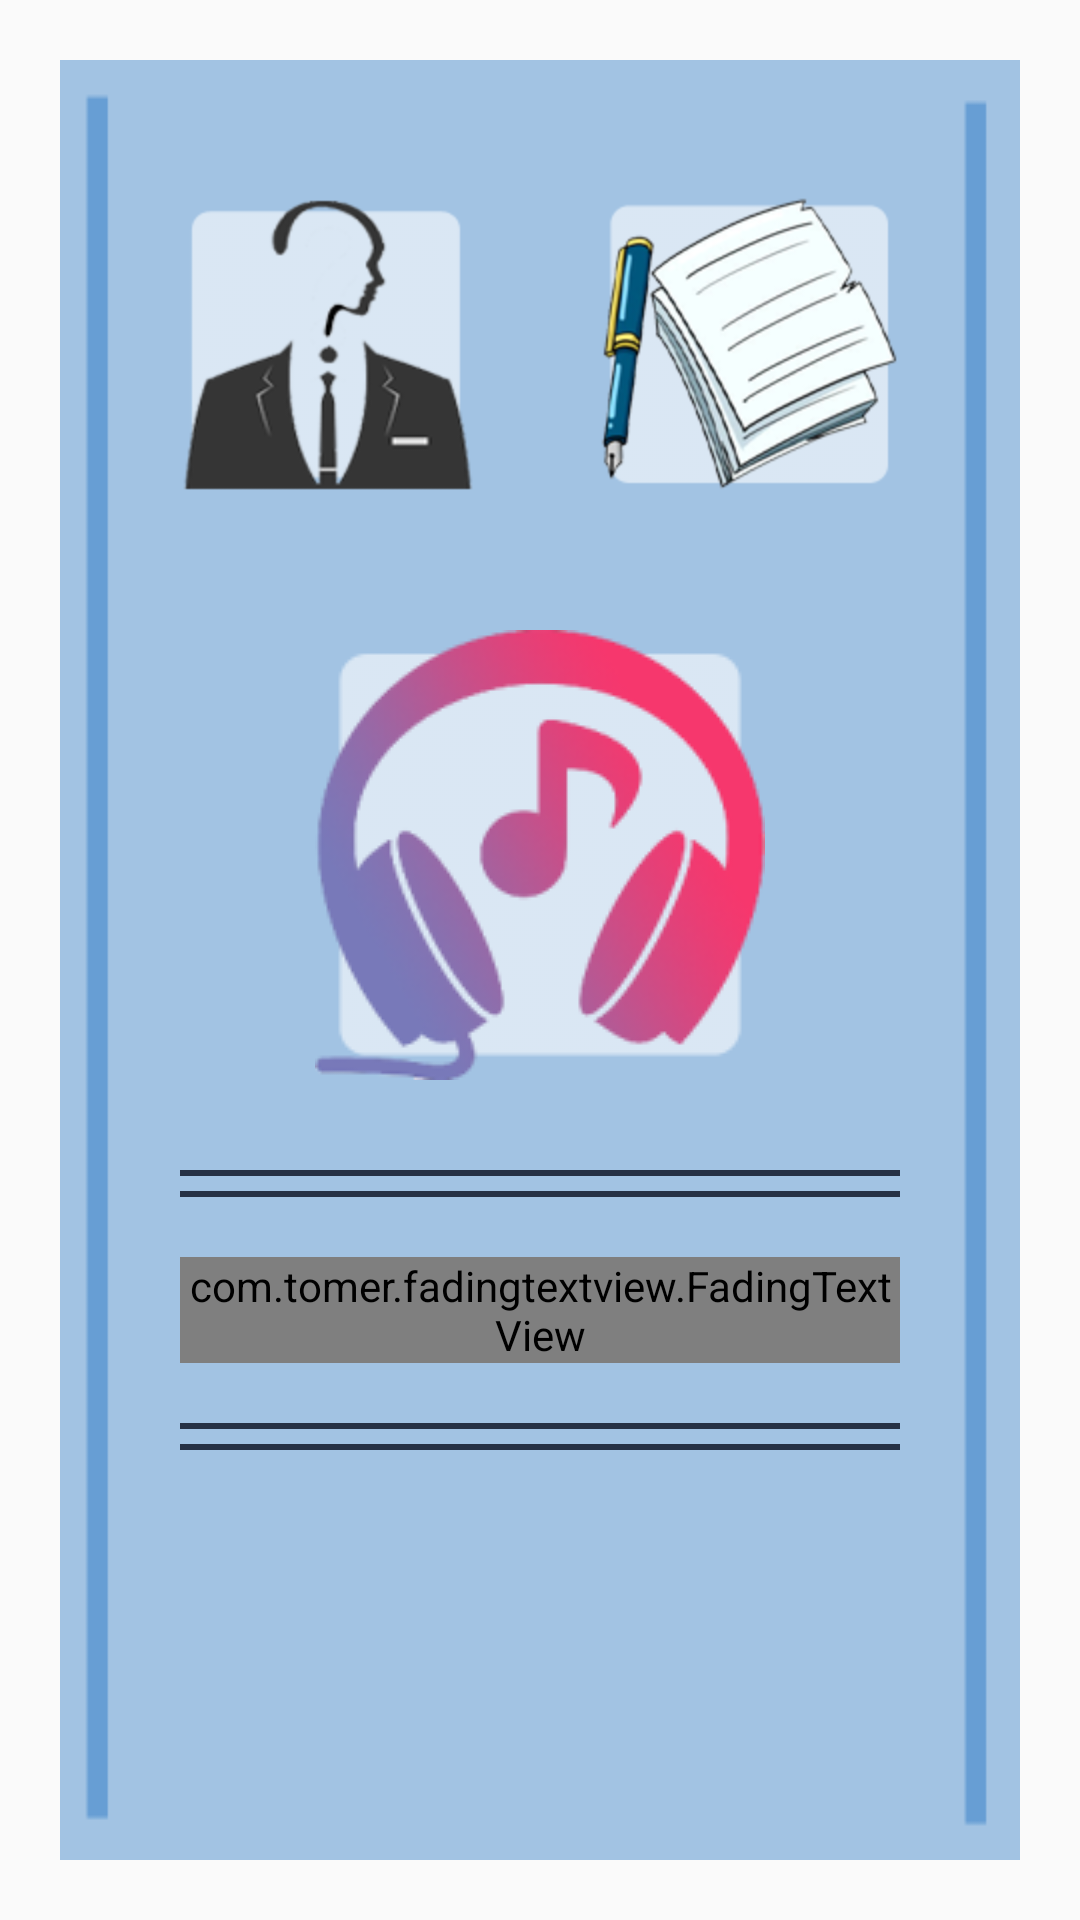

Icon bounding boxes for this 1080px x 1920px phone screenshot, format (x1, y1, x2, y2):
checkman: (184, 200, 472, 490)
paperpen: (602, 199, 897, 488)
